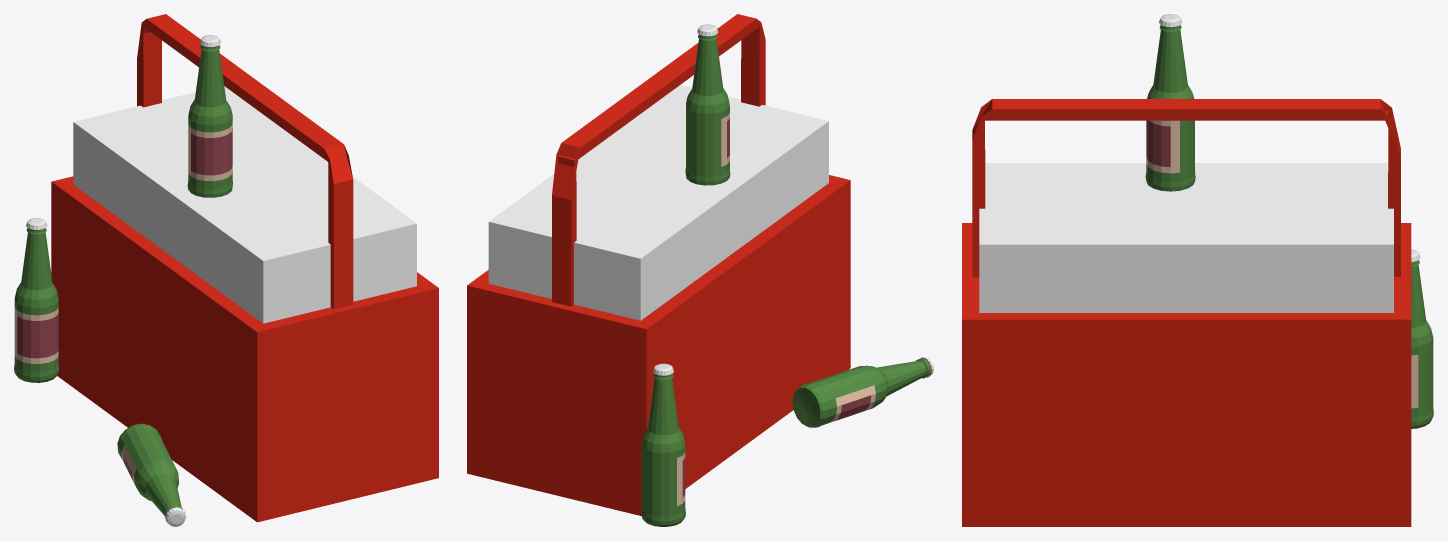
Rendered from Heladerita con birrra.fbx.
3 renders of one model, left to right at view 1: azimuth 30°, elevation 25°; view 2: azimuth 150°, elevation 25°; view 3: azimuth 270°, elevation 25°, orthographic. The views are drawn at different scales.
Visible parts, largest first — view 1: Cube.001, BeerBottle.001, BeerBottle, BeerBottle.002; view 2: Cube.001, BeerBottle.001, BeerBottle, BeerBottle.002; view 3: Cube.001, BeerBottle, BeerBottle.001.
Boxes of the visible parts, <box> form: Cube.001: <box>51,14,438,522</box>; BeerBottle.001: <box>14,218,58,382</box>; BeerBottle: <box>187,35,232,197</box>; BeerBottle.002: <box>117,423,185,526</box>; Cube.001: <box>467,14,850,515</box>; BeerBottle.001: <box>641,363,685,526</box>; BeerBottle: <box>685,24,730,185</box>; BeerBottle.002: <box>792,357,933,427</box>; Cube.001: <box>962,99,1411,526</box>; BeerBottle: <box>1145,14,1195,191</box>; BeerBottle.001: <box>1411,249,1433,428</box>.
Bounding box in the file's own units: 296 × 424 × 413.
